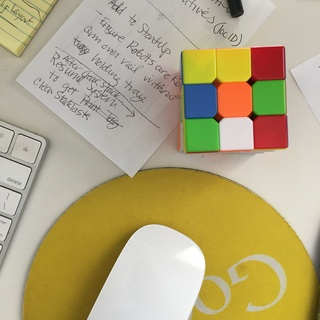face: (181, 46, 288, 151)
